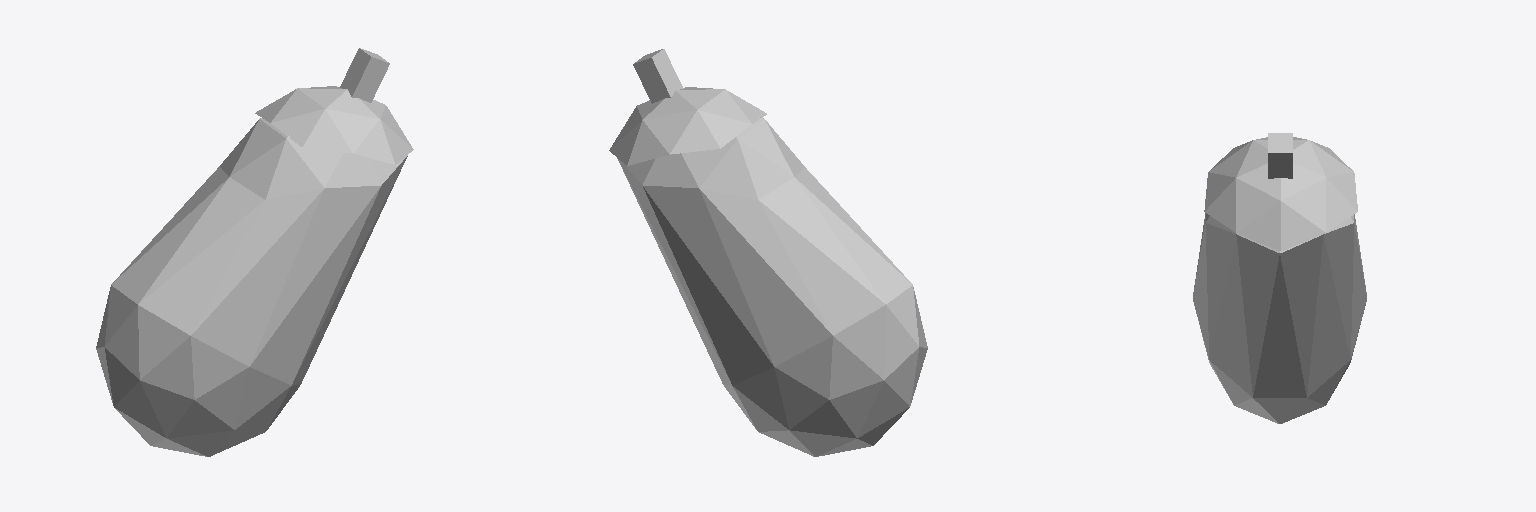
Rendered from Eggplant.obj.
The picture shows the model from 3 angles: view 1: azimuth 30°, elevation 25°; view 2: azimuth 150°, elevation 25°; view 3: azimuth 270°, elevation 25°; orthographic projection.
Visible parts, largest first — view 1: Icosphere; view 2: Icosphere; view 3: Icosphere.
Part boxes in pixels (bbox=[...]): Icosphere: bbox=[96, 48, 413, 456]; Icosphere: bbox=[609, 49, 927, 456]; Icosphere: bbox=[1193, 133, 1366, 423].
Size of the model in its own units: 4 by 4.46 by 2.